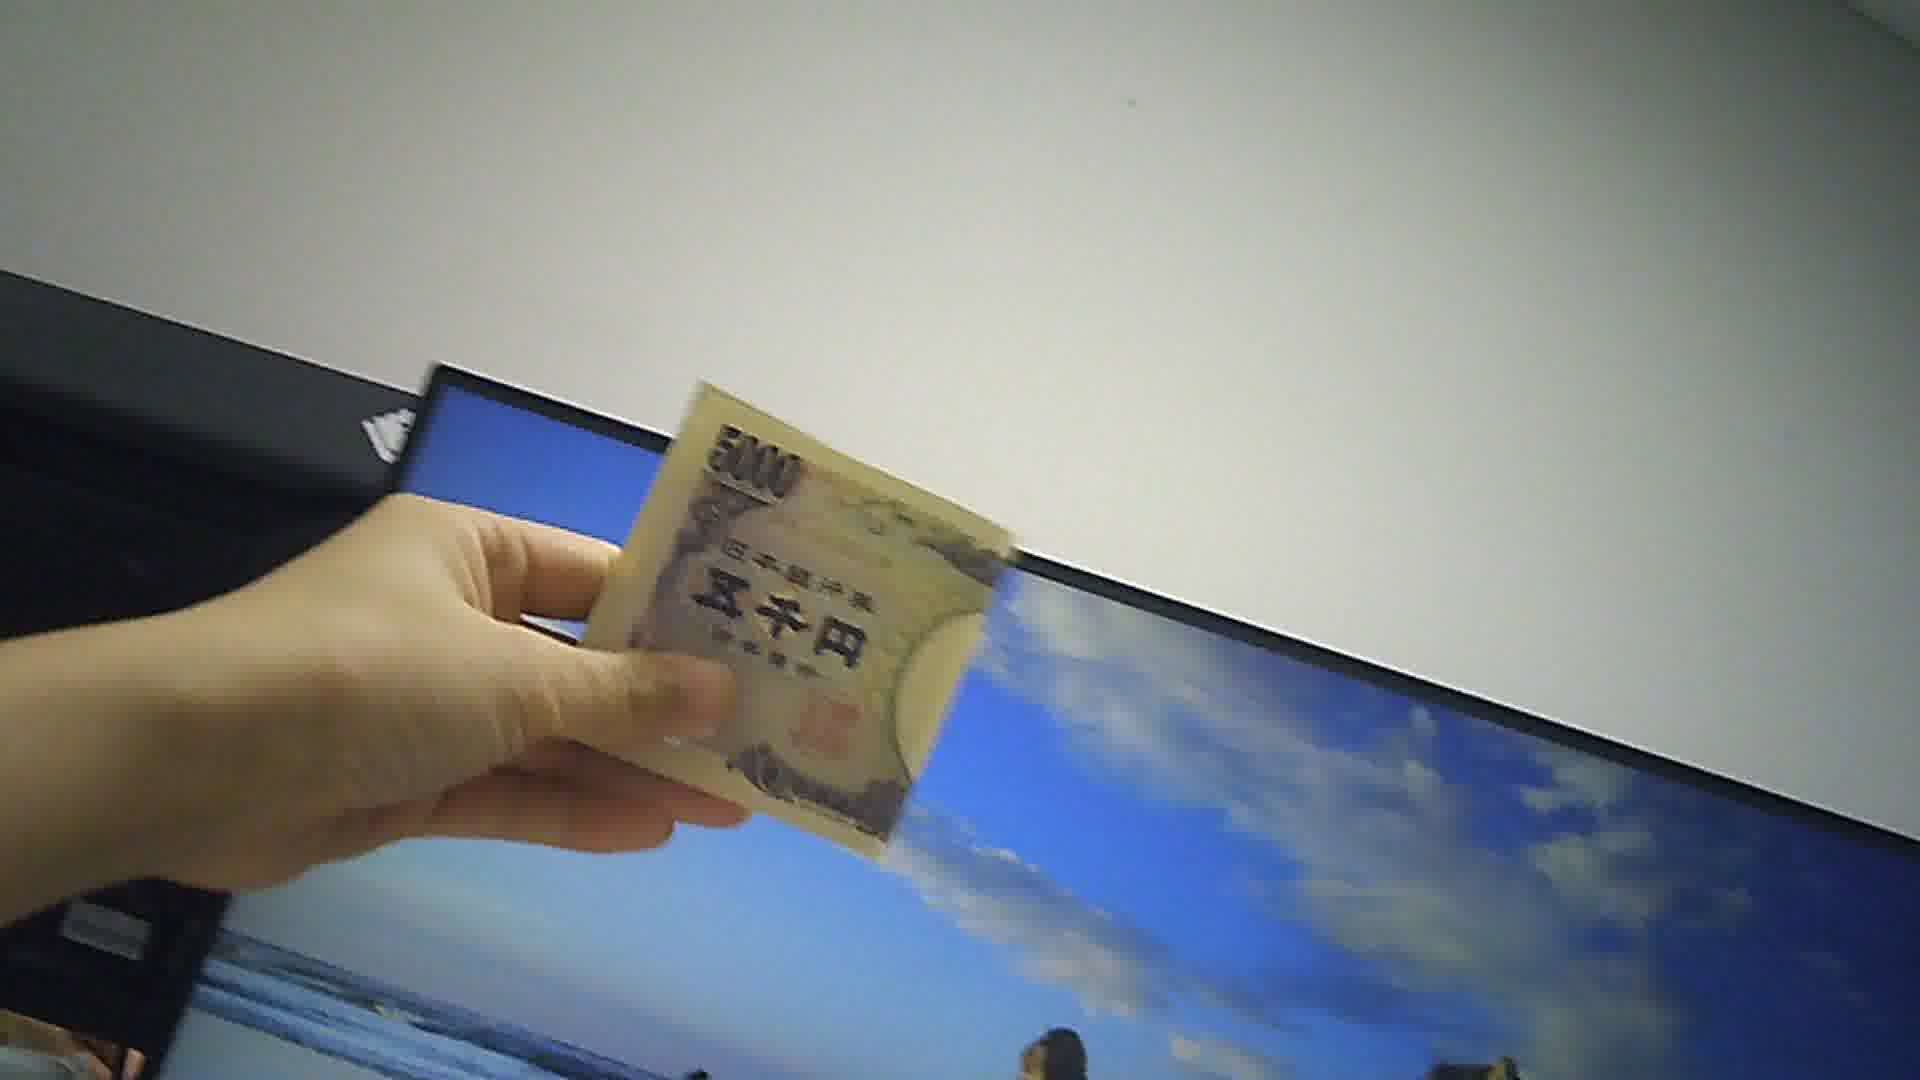5,000 Yen: (559, 380, 998, 848)
